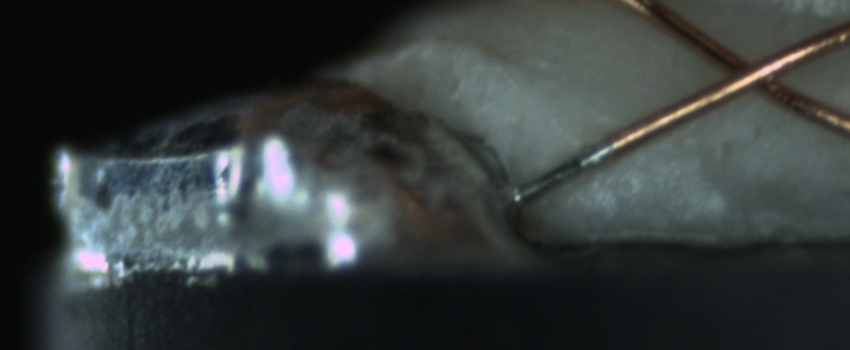CL: (698, 36, 802, 106)
TS: (510, 137, 616, 204)
TTCW: (499, 127, 632, 204)
